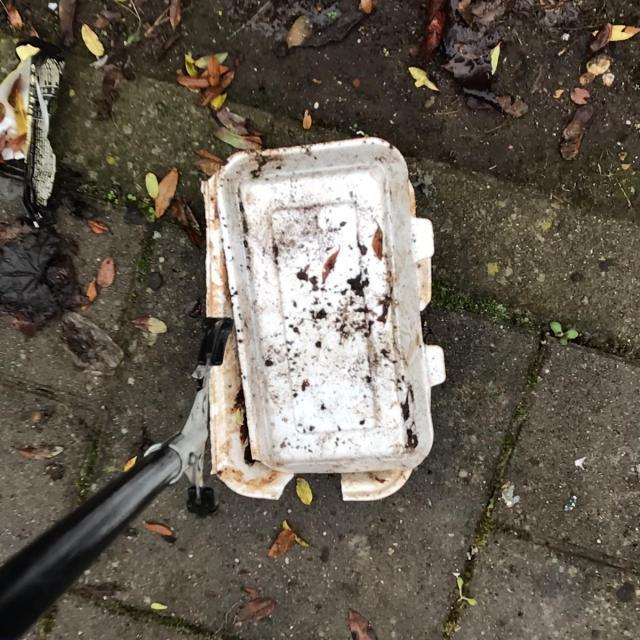Plastic: (196, 130, 449, 503)
